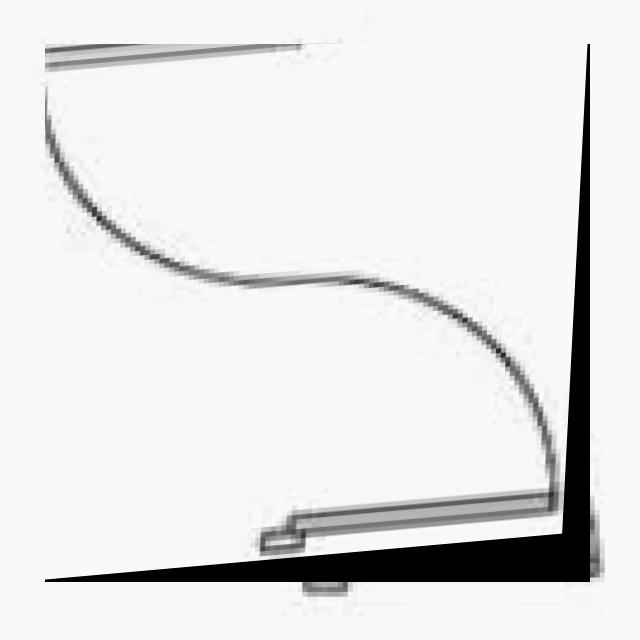door: (45, 44, 590, 582)
